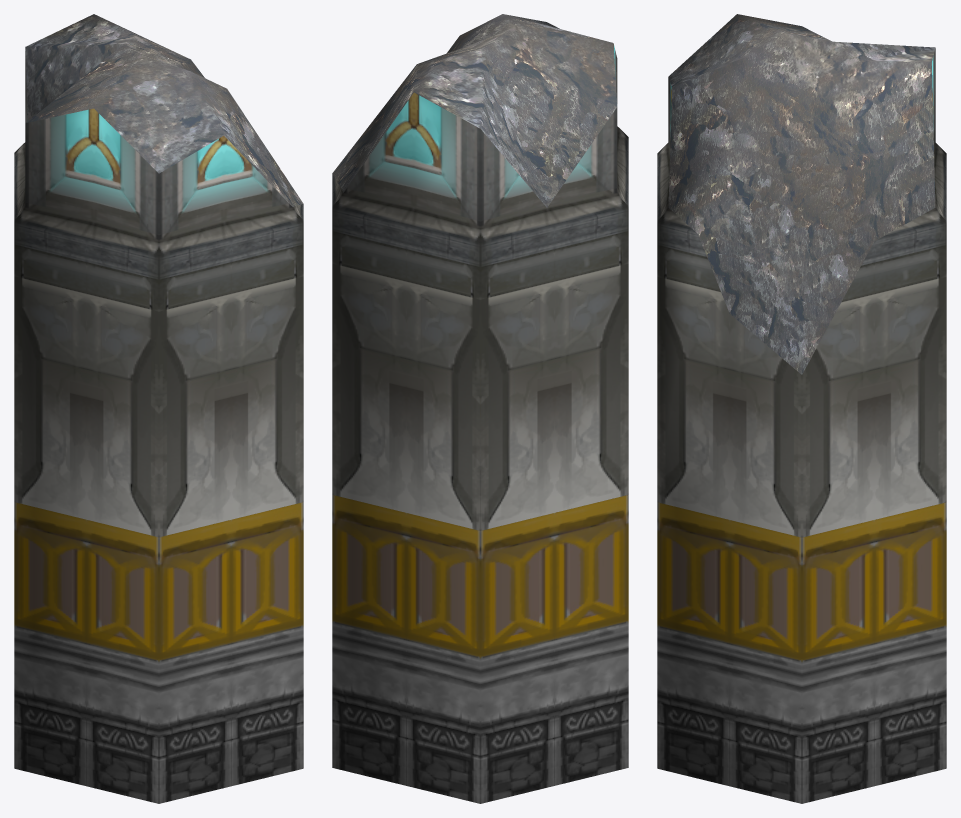
The model's file is Posun_Chengmen_01.FBX.
3 views of the same model, side by side, from view 1: azimuth 30°, elevation 25°; view 2: azimuth 150°, elevation 25°; view 3: azimuth 270°, elevation 25° (orthographic). The views are drawn at different scales.
Visible parts, largest first — view 1: Posun_Chengmen_01; view 2: Posun_Chengmen_01; view 3: Posun_Chengmen_01.
Boxes of the visible parts, <box> form: Posun_Chengmen_01: <box>14,14,303,803</box>; Posun_Chengmen_01: <box>332,14,628,803</box>; Posun_Chengmen_01: <box>657,14,946,803</box>.
Size of the model in its own units: 192 by 436 by 166.
